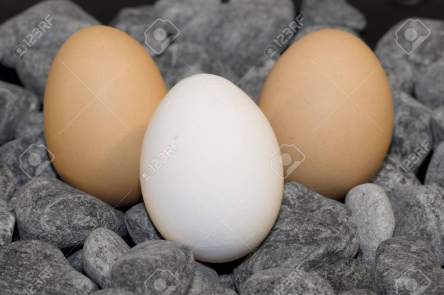egg: (136, 68, 296, 264), (252, 21, 400, 197), (39, 19, 170, 214)
stone: (229, 178, 359, 282), (7, 171, 131, 251), (339, 177, 400, 270), (1, 237, 99, 294), (103, 236, 199, 294), (368, 231, 442, 295), (71, 221, 134, 283)
